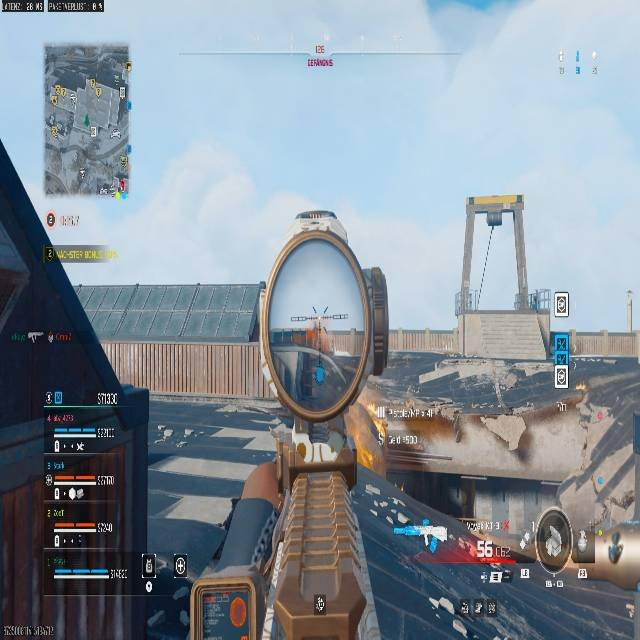player: (144, 559, 192, 639)
